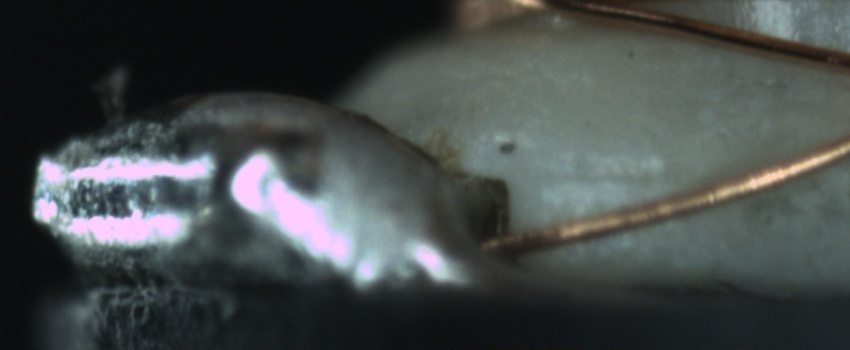DL: (542, 146, 677, 209)
